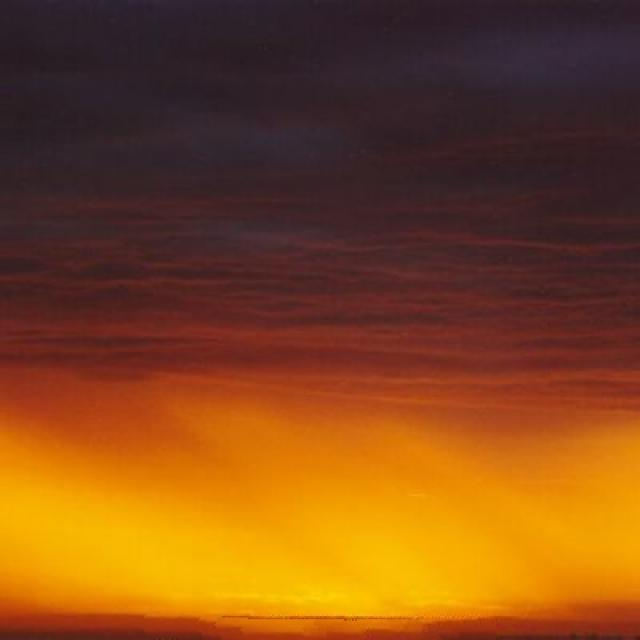As: (1, 144, 640, 501)
